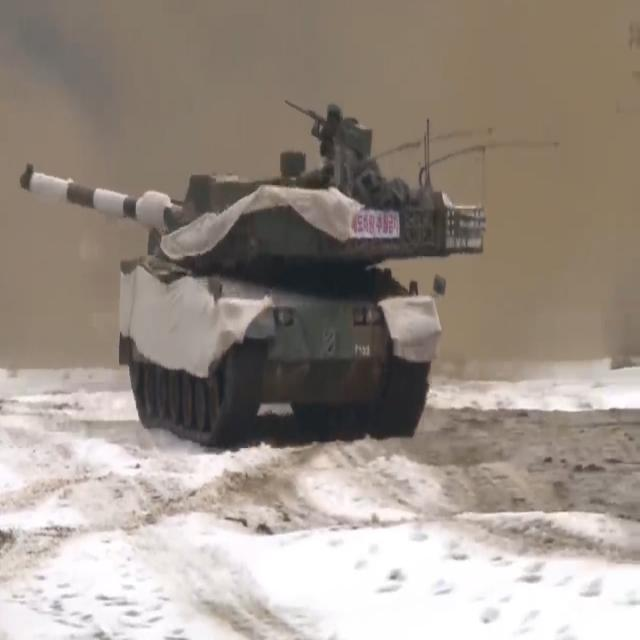korea tank: (19, 99, 487, 449)
